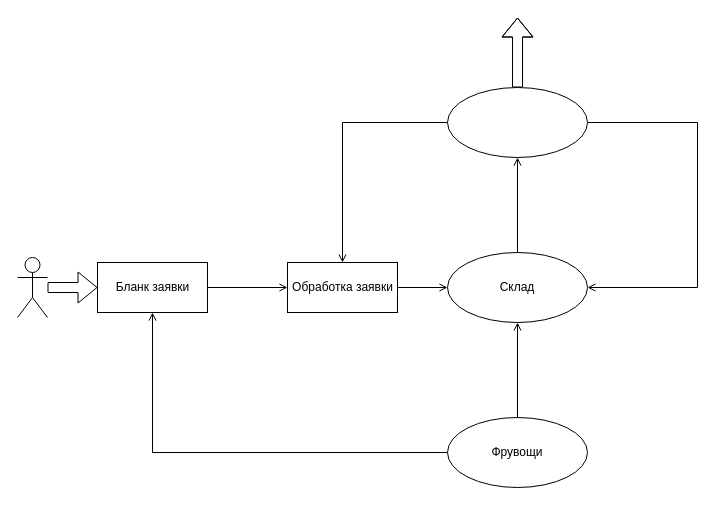
This 723x505 diagram has some shape labels left out. Each missing label, with the box of its shape:
Actor: (16, 256, 48, 318)
Транспорт: (446, 86, 588, 158)
